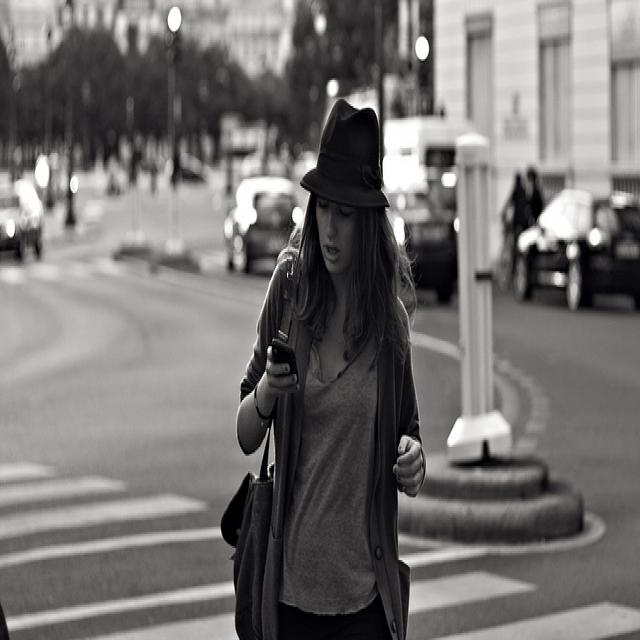Vehicle: (512, 183, 640, 312), (386, 192, 458, 306), (224, 176, 305, 272), (0, 174, 46, 261), (166, 151, 211, 186)
